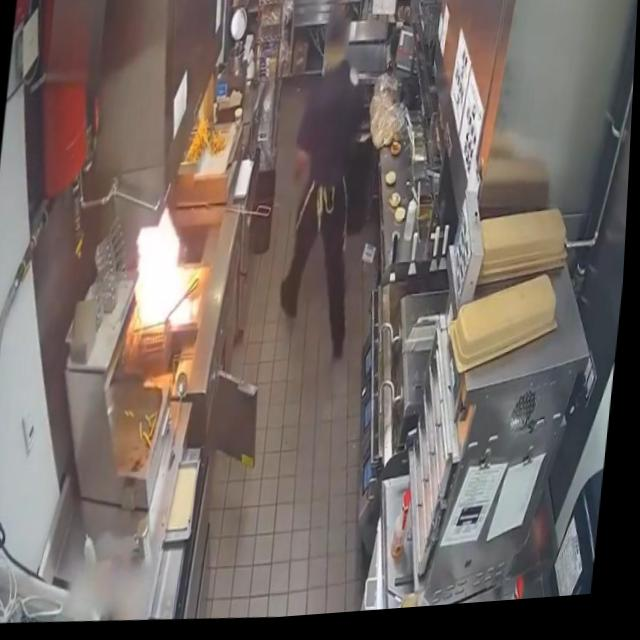fire: (127, 199, 205, 338)
